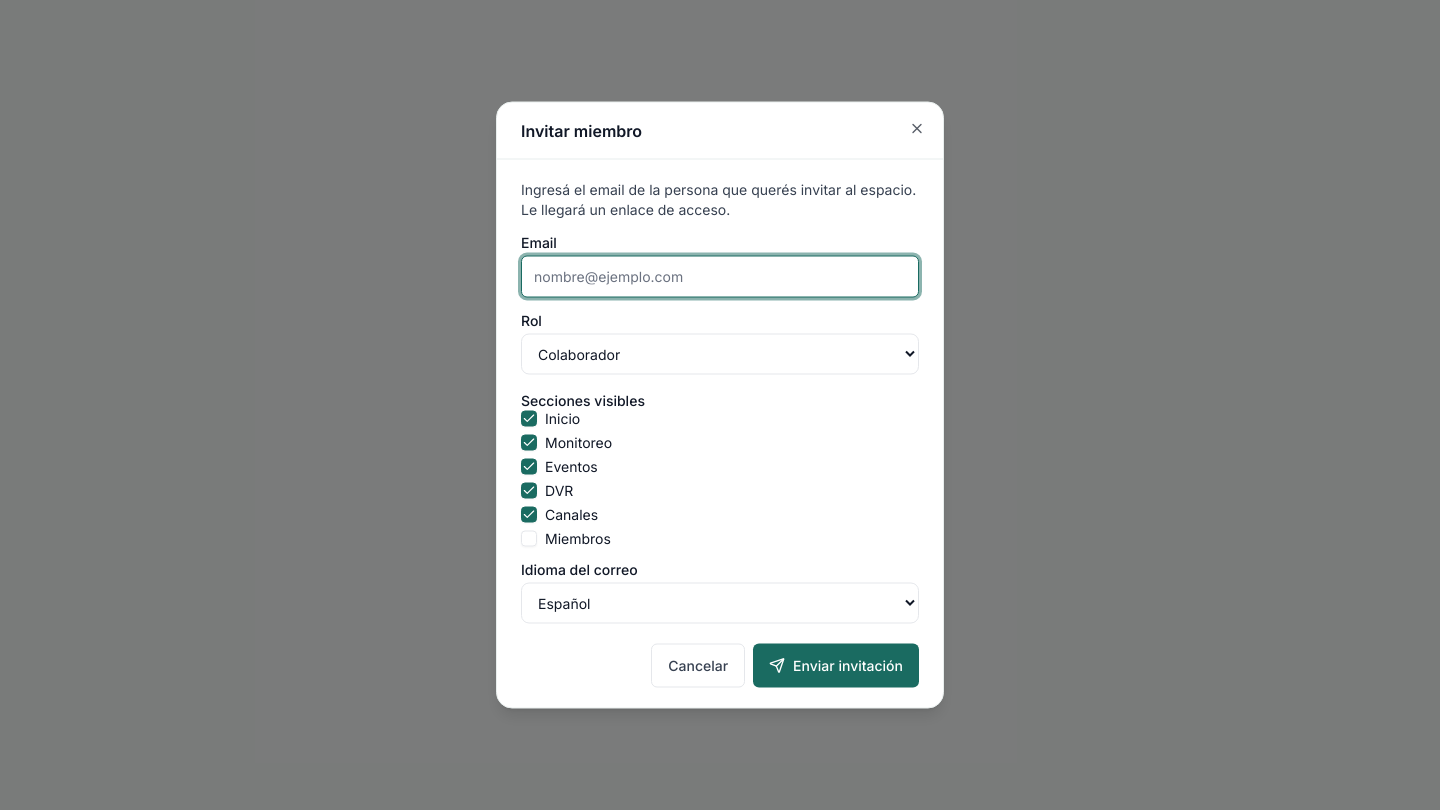
InviteModal › locks the menu for an admin and sends neither menu nor cameras
Later steps or results of the test are not shown.
Select "Administrador" in the dropdown labelled "Rol" at (720, 354), box [521,334,919,374]
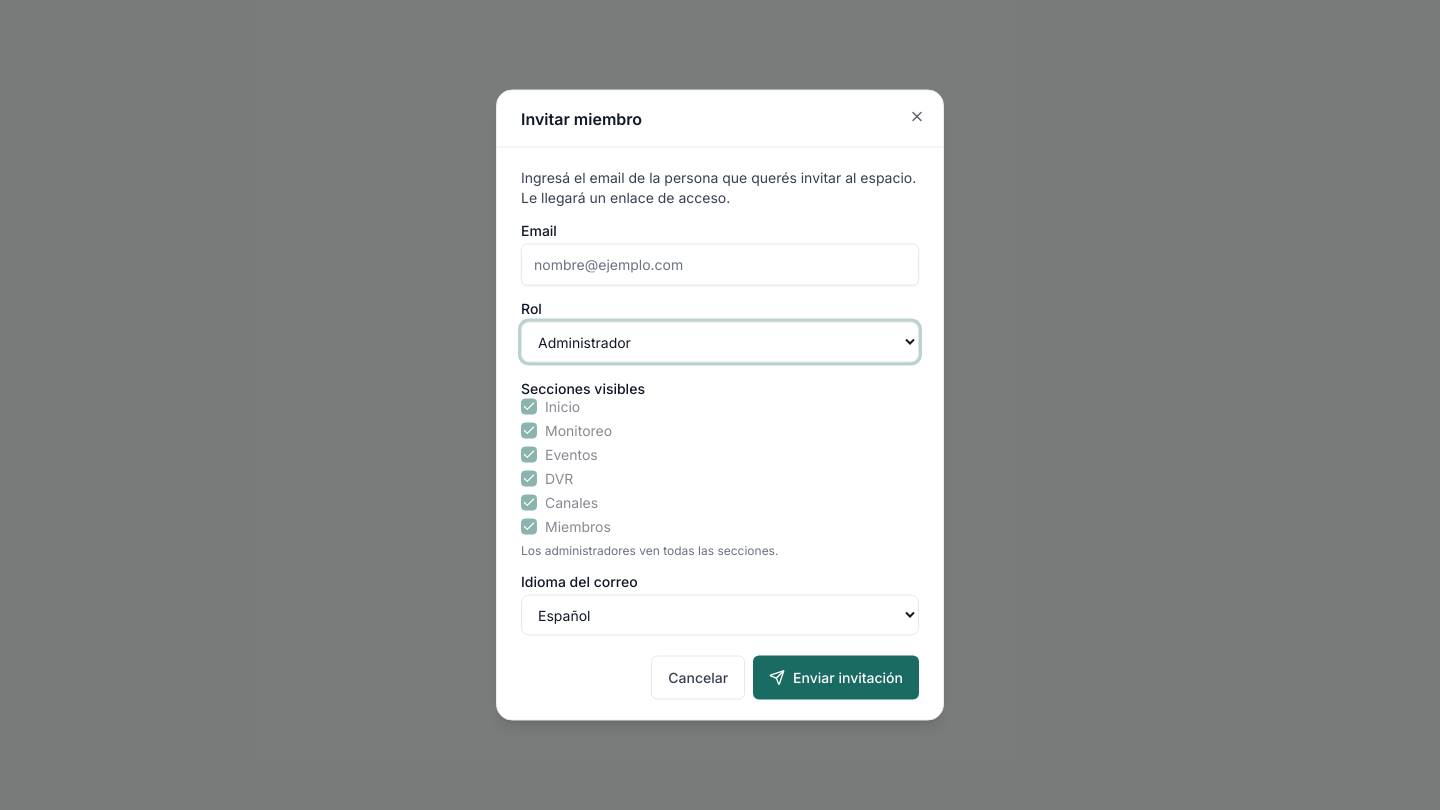
Expected: the checkbox next to "Inicio" is disabled, [521,398,537,414]
Expected: the checkbox next to "Monitoreo" is disabled, [521,422,537,438]
Expected: the checkbox next to "Eventos" is disabled, [521,446,537,462]
